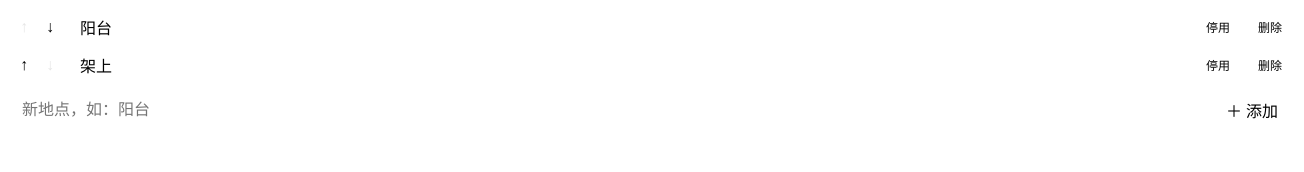
Test: 地点管理面板（票 04 轻提示接线） › 行级删除成功弹「已删除」并移行、抛 changed
Click the 1st button with class "loc-erase-btn" at (1270, 27), box [1248,13,1292,41]
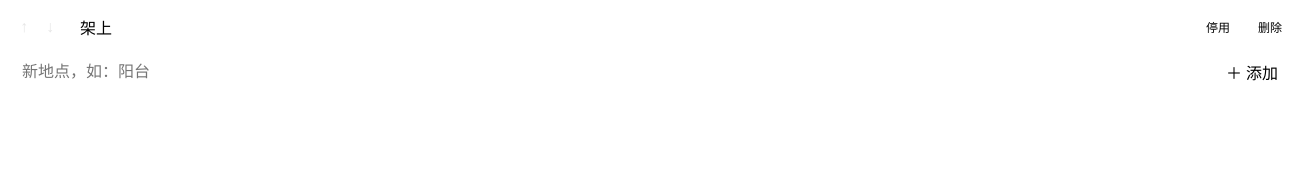
Check: the number of elements with class "loc-row" is 1, box [12,12,1292,42]
